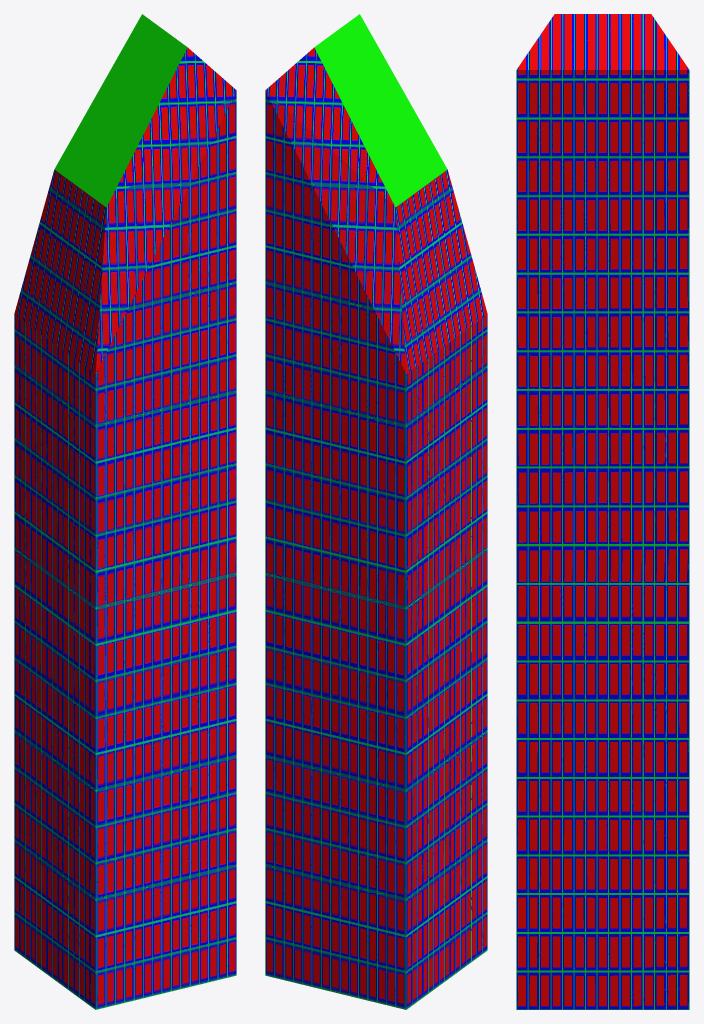
Rendered from ExportTest1.fbx.
The picture shows the model from 3 angles, left to right: view 1: azimuth 30°, elevation 25°; view 2: azimuth 150°, elevation 25°; view 3: azimuth 270°, elevation 25°; orthographic projection. The views are drawn at different scales.
Visible parts, largest first — view 1: Building_Box_Slope_Roof; view 2: Building_Box_Slope_Roof; view 3: Building_Box_Slope_Roof.
Part boxes in pixels (bbox=[...]): Building_Box_Slope_Roof: bbox=[14, 14, 236, 1009]; Building_Box_Slope_Roof: bbox=[265, 14, 487, 1009]; Building_Box_Slope_Roof: bbox=[516, 14, 689, 1009].
Size of the model in its own units: 20 by 125 by 20.
